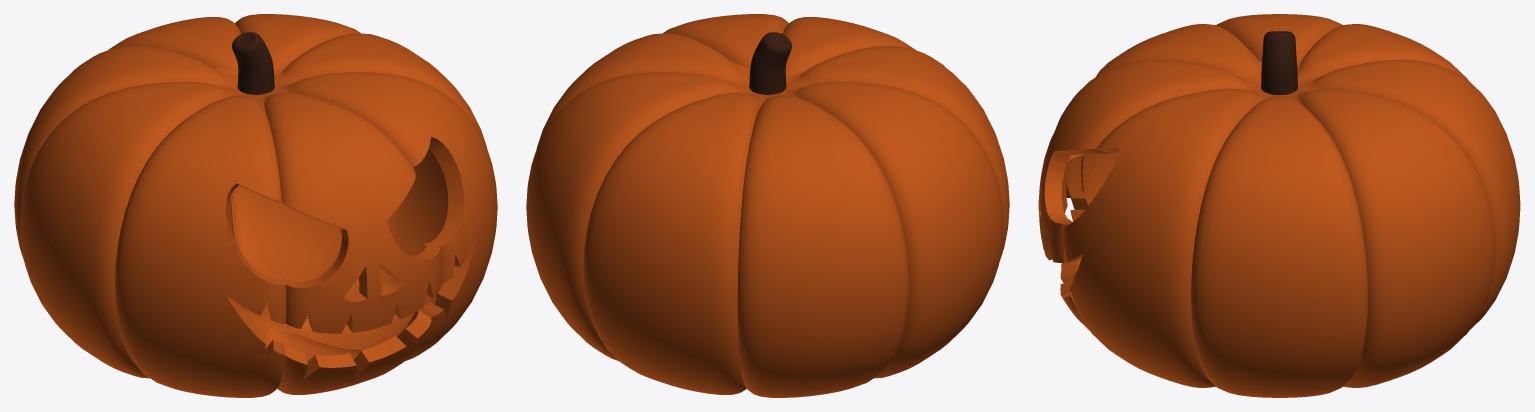
Rendered from Pumpkin.fbx.
3 views of the same model, side by side, from view 1: azimuth 30°, elevation 25°; view 2: azimuth 150°, elevation 25°; view 3: azimuth 270°, elevation 25° (orthographic).
Parts seen in each view (by area): view 1: Pumpkin.001; view 2: Pumpkin.001; view 3: Pumpkin.001.
Part boxes in pixels (bbox=[...]): Pumpkin.001: bbox=[14, 14, 497, 397]; Pumpkin.001: bbox=[526, 14, 1009, 397]; Pumpkin.001: bbox=[1038, 14, 1520, 397].
Bounding box in the file's own units: 196 × 138 × 196.
